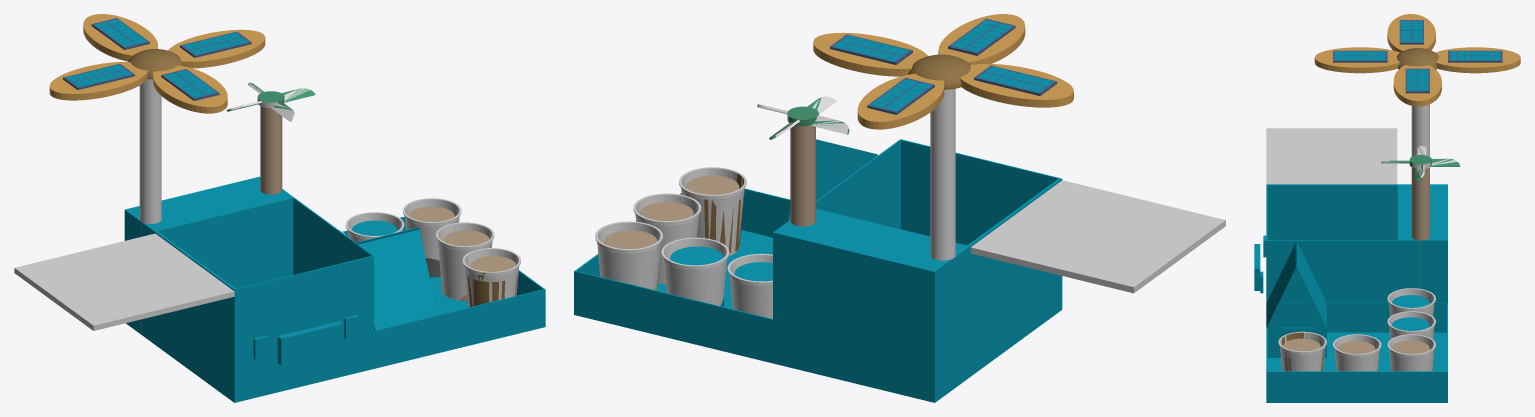
The model's file is 3D_model _voltrabloom.glb.
3 views of the same model, side by side, from view 1: azimuth 30°, elevation 25°; view 2: azimuth 150°, elevation 25°; view 3: azimuth 270°, elevation 25° (orthographic). The views are drawn at different scales.
Parts seen in each view (by area): view 1: Mesh_Mesh_head_geo.001_lambert2SG.001; view 2: Mesh_Mesh_head_geo.001_lambert2SG.001; view 3: Mesh_Mesh_head_geo.001_lambert2SG.001.
Part boxes in pixels (box(x1,y1,x2,y2)): Mesh_Mesh_head_geo.001_lambert2SG.001: box(14, 14, 545, 402); Mesh_Mesh_head_geo.001_lambert2SG.001: box(574, 14, 1225, 402); Mesh_Mesh_head_geo.001_lambert2SG.001: box(1254, 14, 1520, 402).
Bounding box in the file's own units: 71.2 × 42 × 44.
